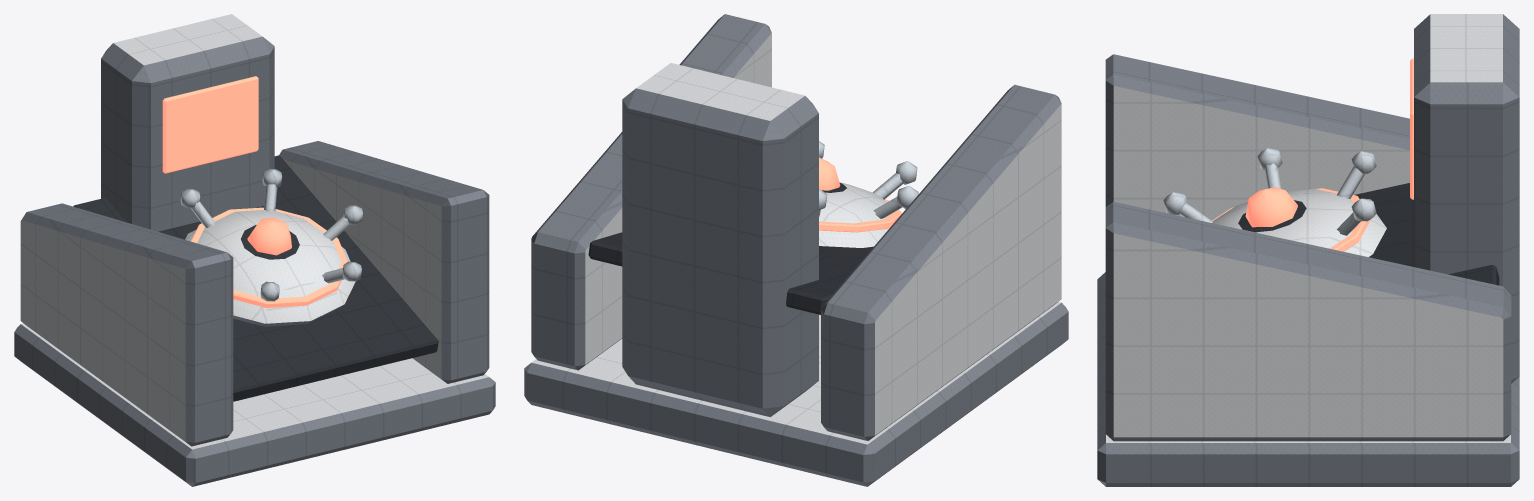
Rendered from R4X_ExplosiveTrapDeployer_LOD1.glb.
3 renders of one model, left to right at view 1: azimuth 30°, elevation 25°; view 2: azimuth 150°, elevation 25°; view 3: azimuth 270°, elevation 25°, orthographic. The views are drawn at different scales.
Parts seen in each view (by area): view 1: R4X_ExplosiveTrapDeployer_LOD1; view 2: R4X_ExplosiveTrapDeployer_LOD1; view 3: R4X_ExplosiveTrapDeployer_LOD1.
Boxes of the visible parts, left/top/right/bottom form: R4X_ExplosiveTrapDeployer_LOD1: left=14, top=14, right=495, bottom=486; R4X_ExplosiveTrapDeployer_LOD1: left=524, top=14, right=1068, bottom=486; R4X_ExplosiveTrapDeployer_LOD1: left=1097, top=14, right=1519, bottom=486.
Bounding box in the file's own units: 0.52 × 0.48 × 0.52.
Materials: 5 (4 with a texture image).
